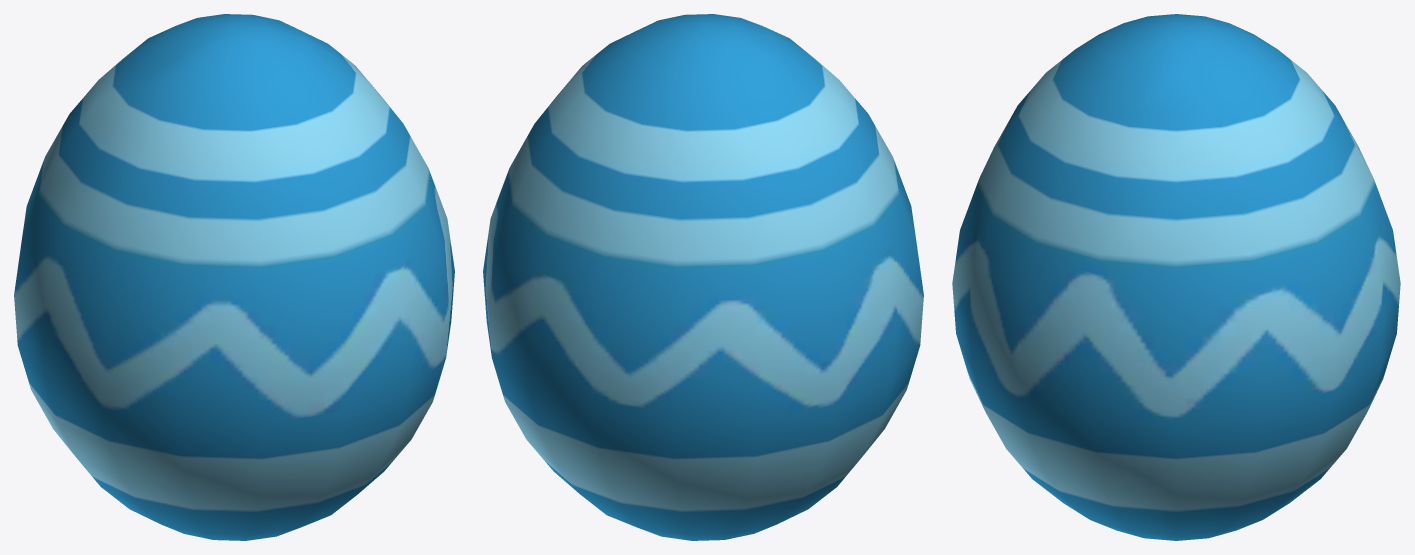
The model's file is 0-egg_blue.fbx.
3 views of the same model, side by side, from view 1: azimuth 30°, elevation 25°; view 2: azimuth 150°, elevation 25°; view 3: azimuth 270°, elevation 25° (orthographic).
Visible parts, largest first — view 1: 0-egg_blue; view 2: 0-egg_blue; view 3: 0-egg_blue.
Part boxes in pixels (box(x1,y1,x2,y2)): 0-egg_blue: box(14, 14, 454, 540); 0-egg_blue: box(483, 14, 923, 540); 0-egg_blue: box(952, 14, 1400, 540).
Bounding box in the file's own units: 77.18 × 95.23 × 77.96.
